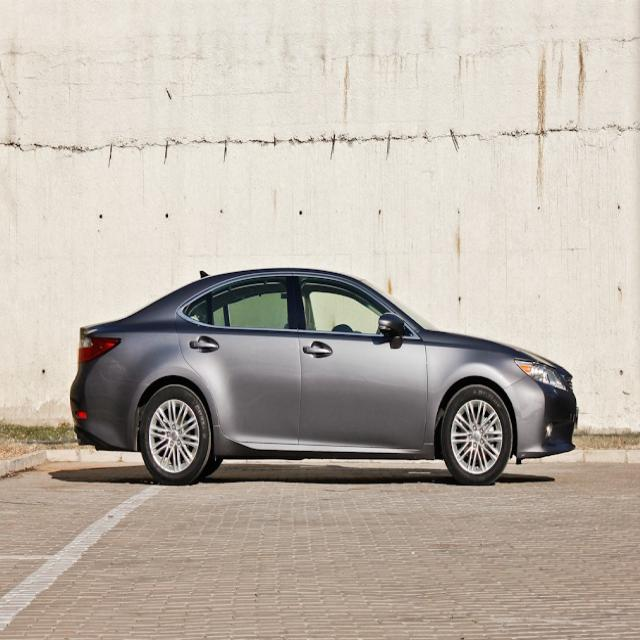back_right_side_light: (77, 326, 122, 366)
door: (178, 276, 298, 453)
front_right_side_door: (291, 270, 429, 452)
front_right_side_light: (513, 358, 568, 391)
front_right_side_mirror: (378, 312, 404, 340)
wheel: (440, 384, 512, 484), (139, 384, 211, 484)
